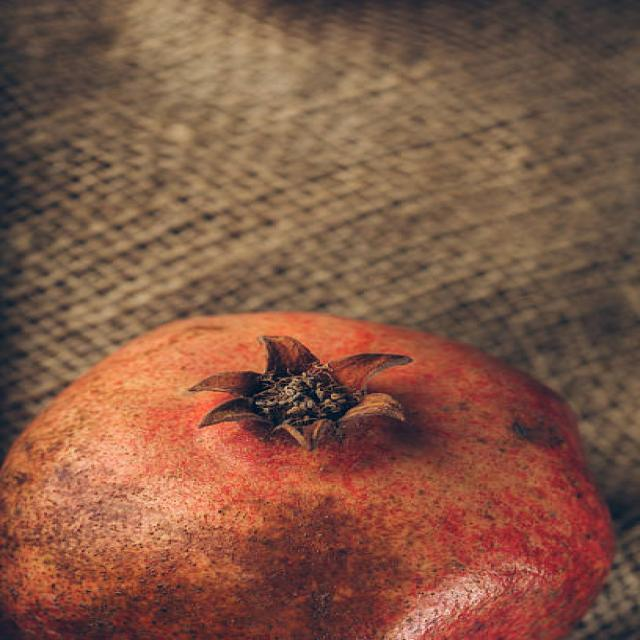overripe: (5, 306, 613, 640)
